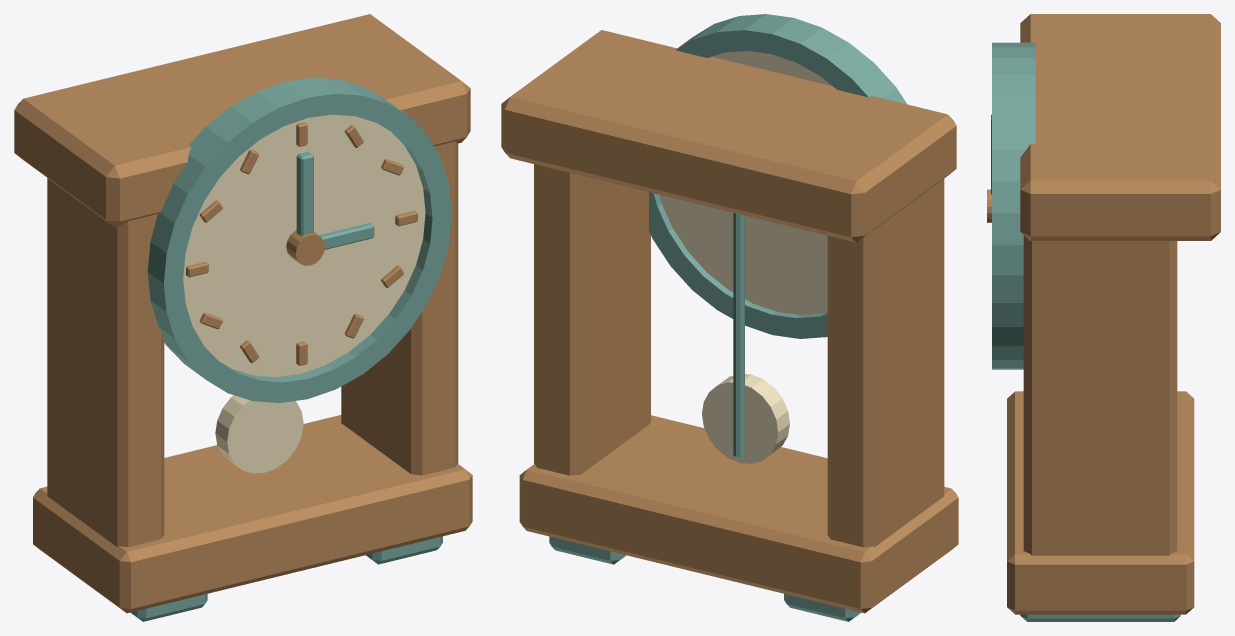
The picture shows the model from 3 angles, left to right: view 1: azimuth 30°, elevation 25°; view 2: azimuth 150°, elevation 25°; view 3: azimuth 270°, elevation 25°; orthographic projection.
Visible parts, largest first — view 1: timekeeping-pendulum-clock-01; view 2: timekeeping-pendulum-clock-01; view 3: timekeeping-pendulum-clock-01.
Boxes of the visible parts, bbox=[...] form: timekeeping-pendulum-clock-01: bbox=[14, 14, 472, 621]; timekeeping-pendulum-clock-01: bbox=[501, 14, 958, 621]; timekeeping-pendulum-clock-01: bbox=[987, 14, 1220, 621].
Bounding box in the file's own units: 0.62 × 0.815 × 0.35.
